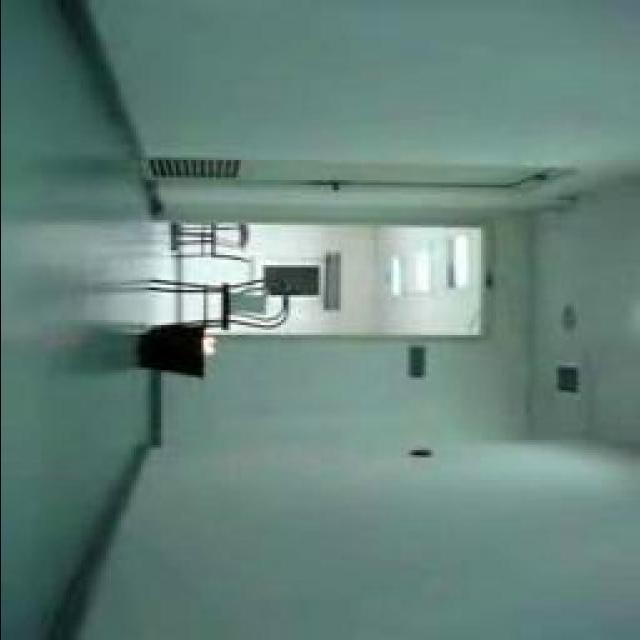Fire: (199, 337, 216, 363)
